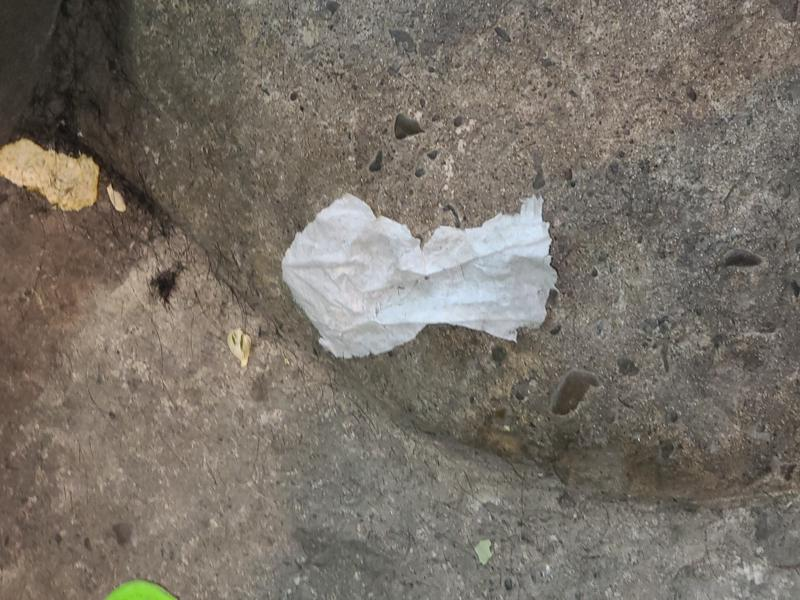papel: (280, 194, 558, 361)
